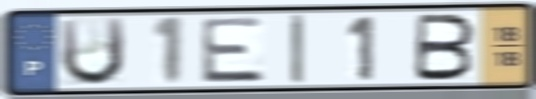1: (150, 14, 186, 88), (345, 14, 377, 83)
B: (410, 12, 478, 83)
E: (198, 15, 268, 85)
I: (287, 12, 307, 87)
U: (57, 15, 128, 89)
